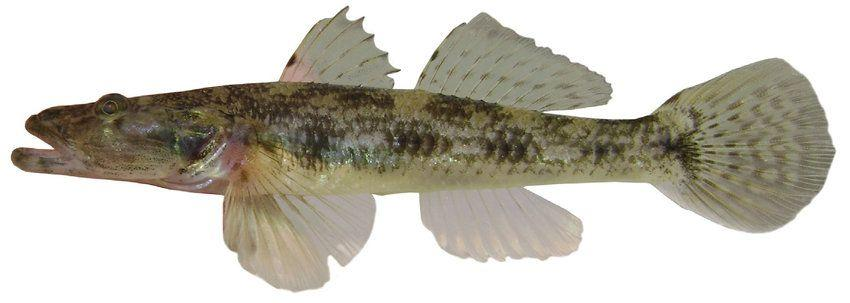Goby: (13, 7, 839, 289)
